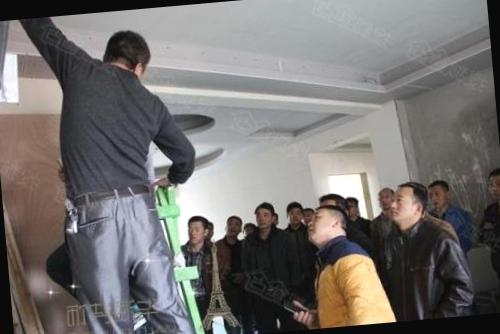no_helmet: (99, 24, 156, 85), (386, 178, 430, 230), (306, 202, 349, 248), (184, 210, 218, 247), (426, 173, 456, 212), (249, 199, 276, 233), (282, 200, 306, 230), (221, 212, 245, 241), (483, 165, 500, 203), (341, 194, 364, 221), (376, 185, 396, 215)
